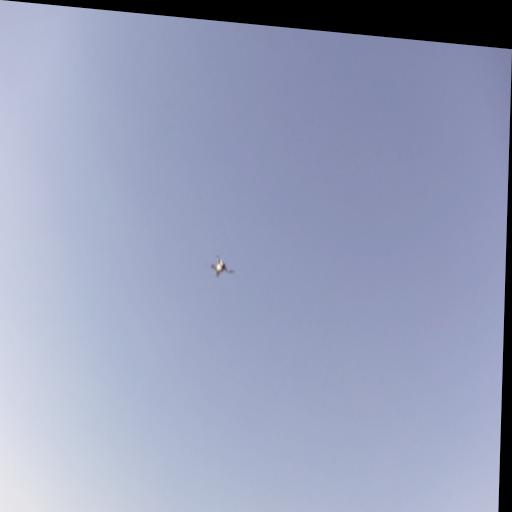drones: (207, 251, 235, 285)
